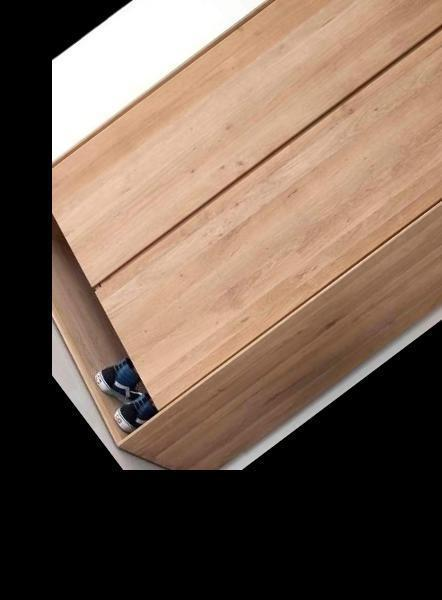Armario: (0, 0, 442, 507)
